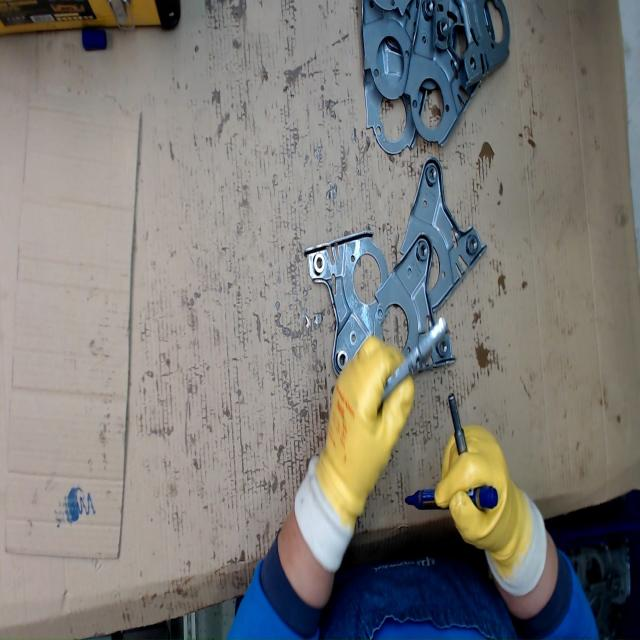hands: (310, 336, 415, 543), (433, 422, 529, 579)
